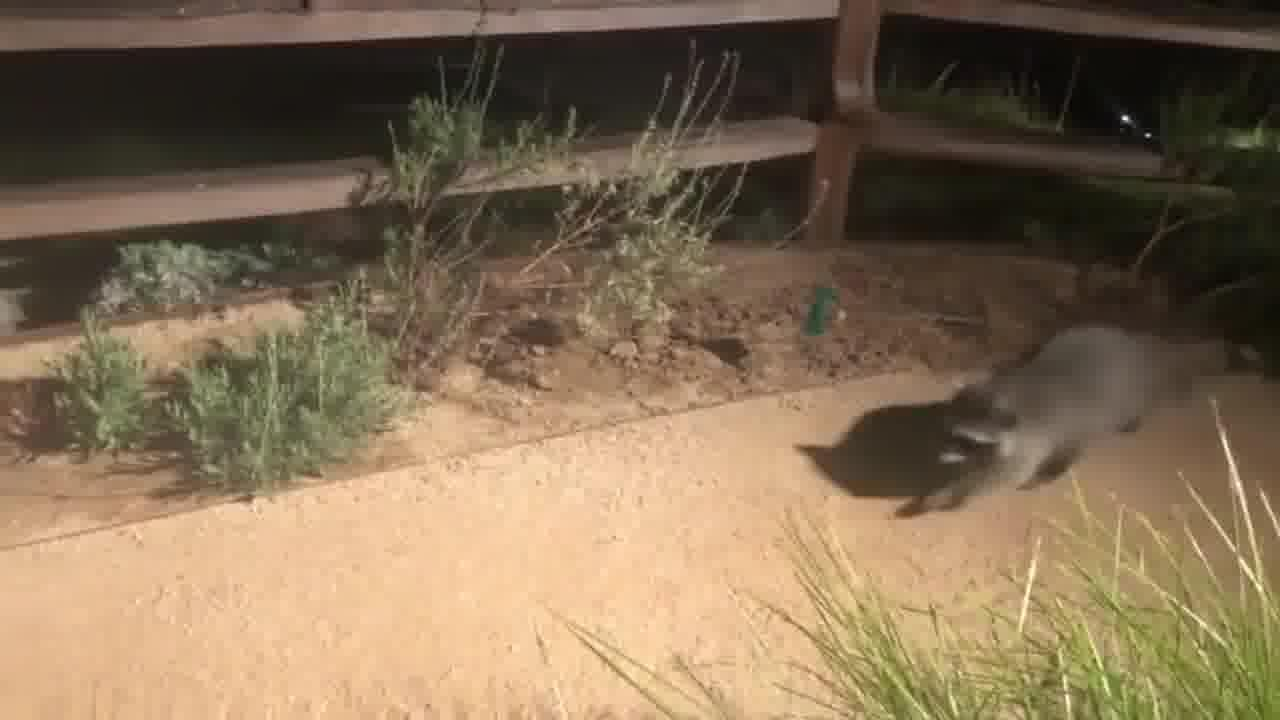raccoon: (931, 317, 1253, 507)
